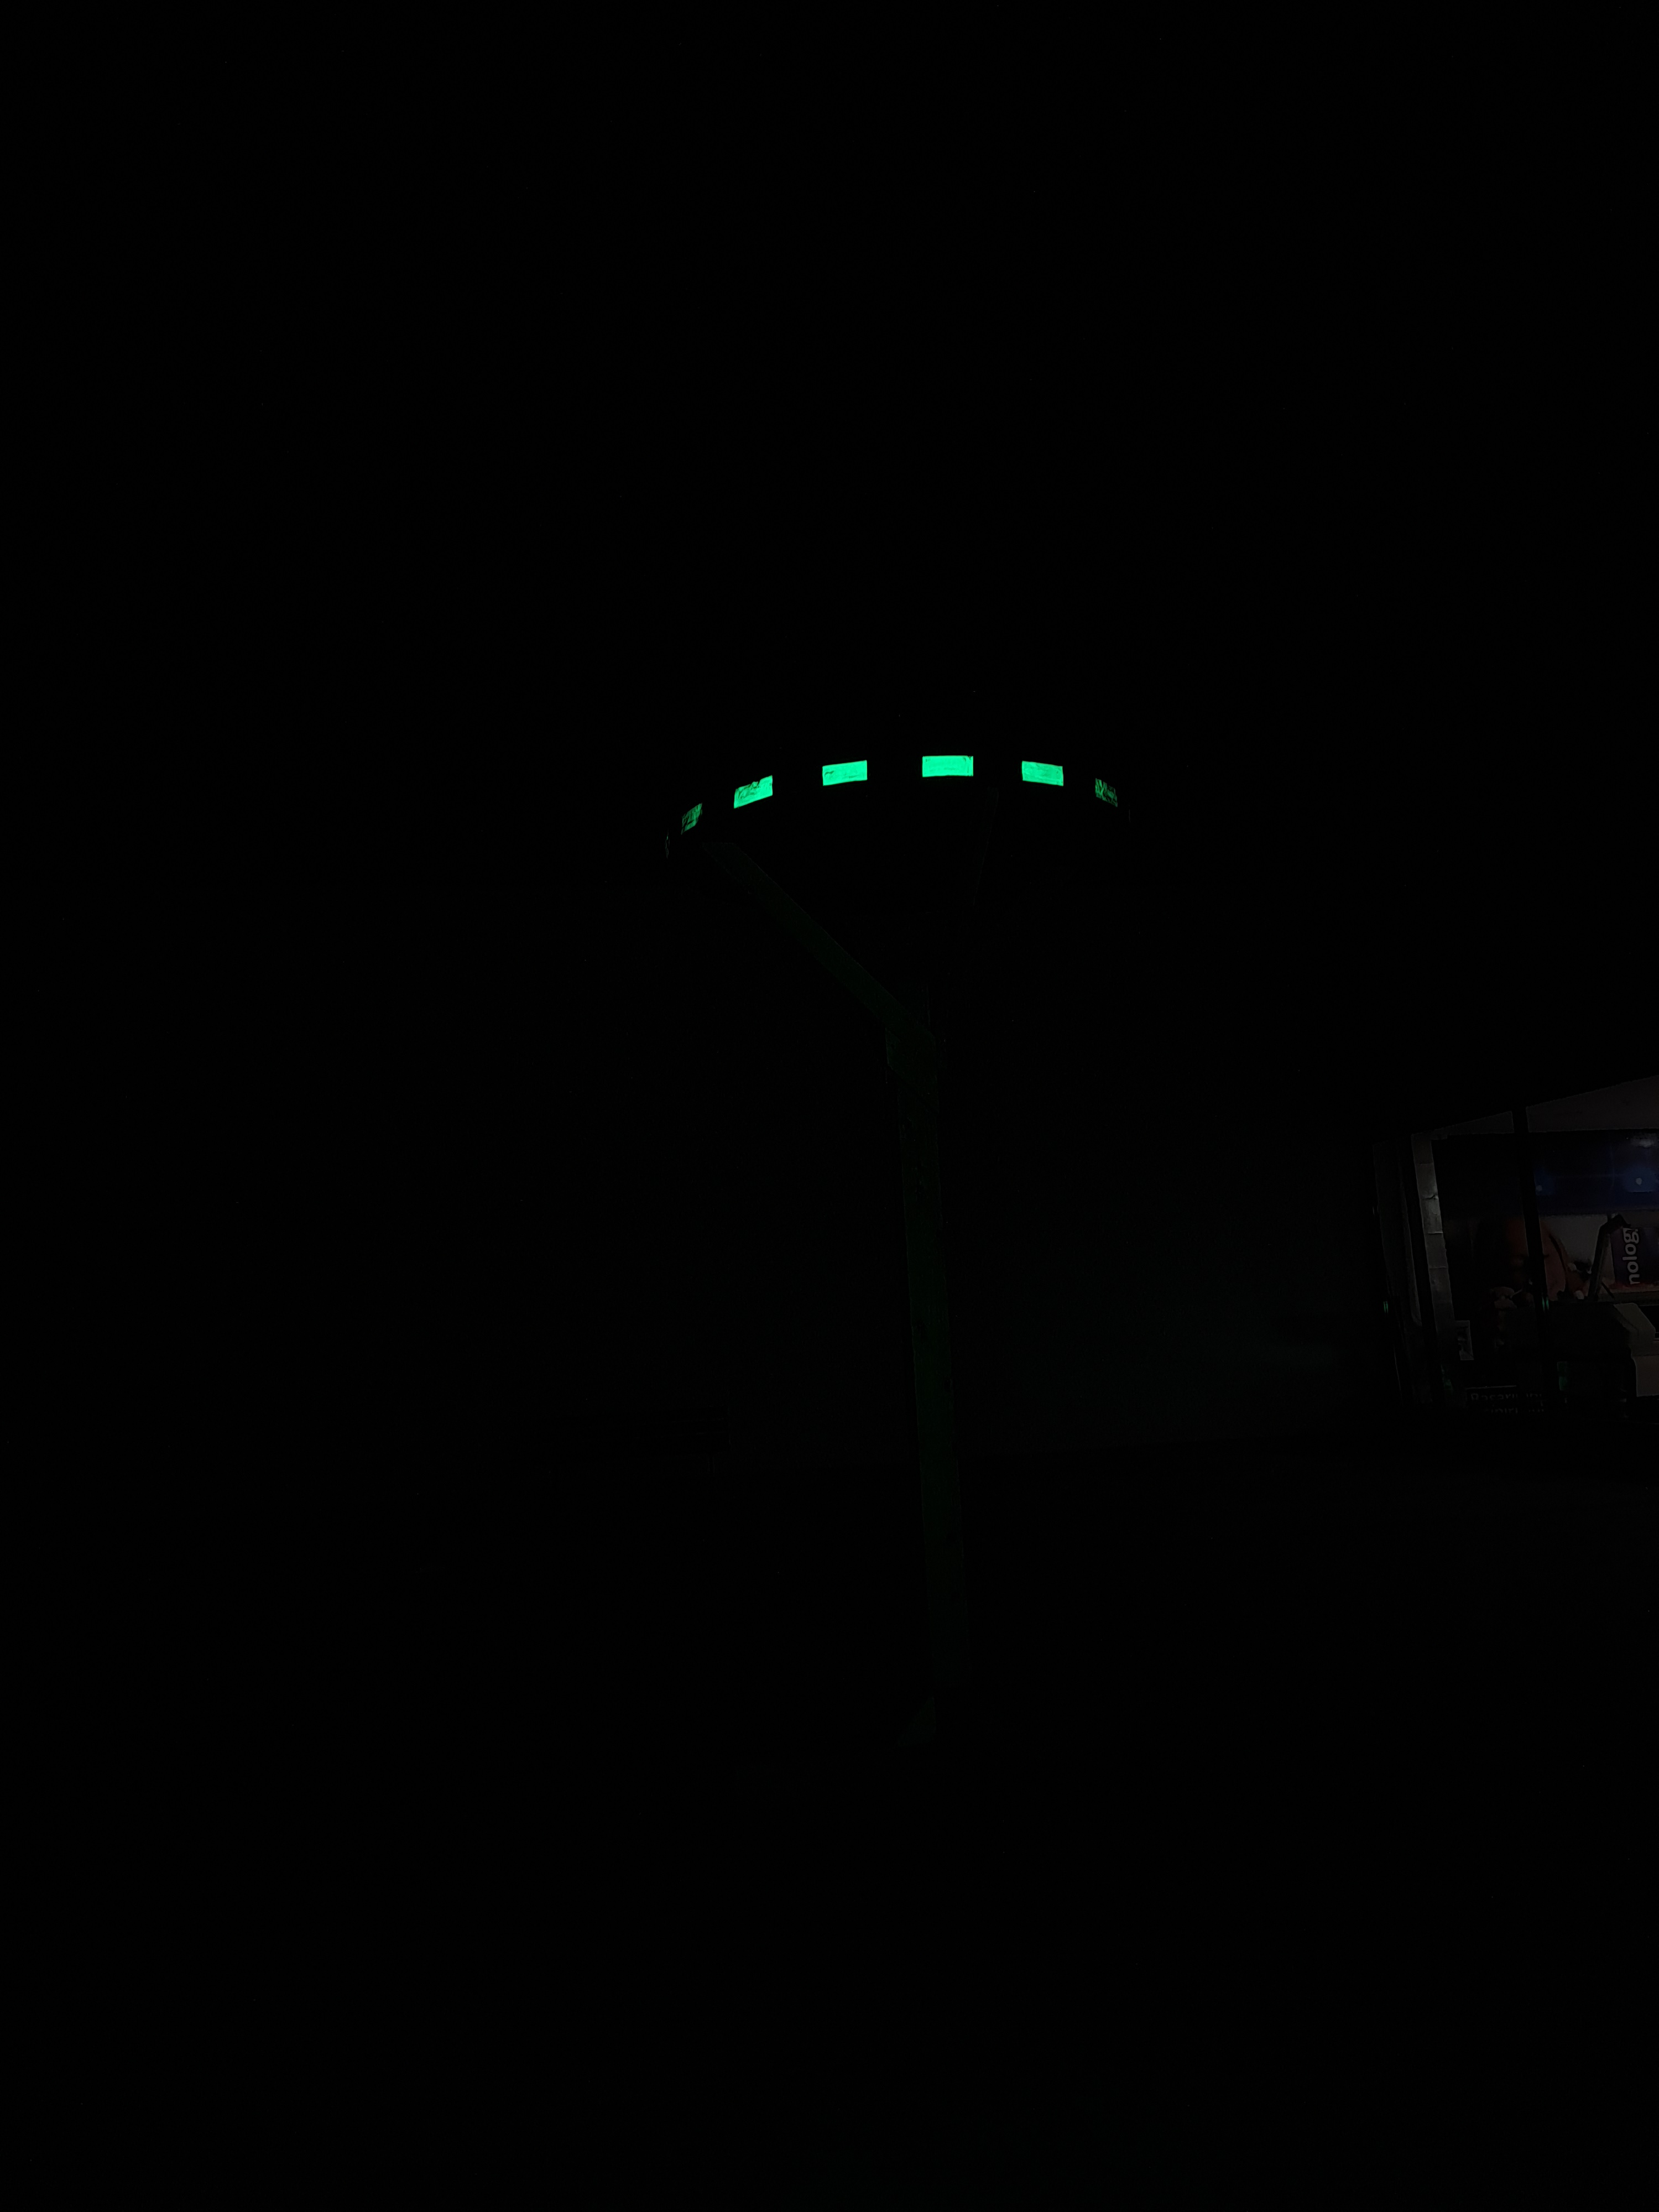hoop: (636, 733, 1166, 848)
